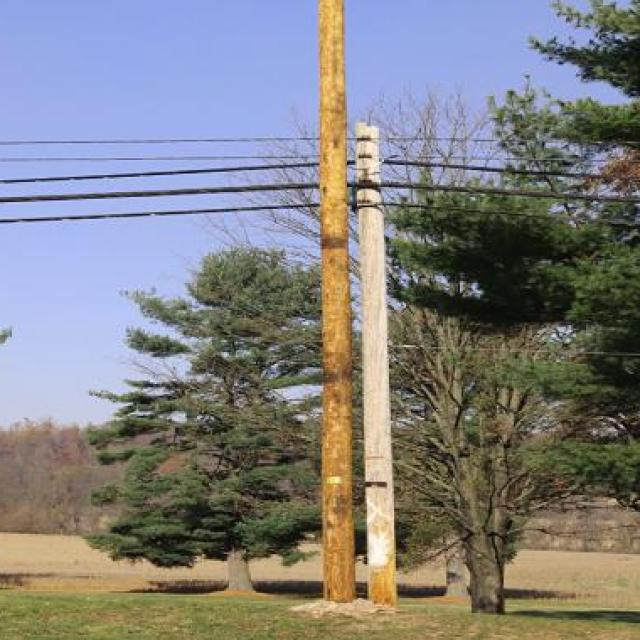non-critical vegetation: (342, 116, 439, 593)
